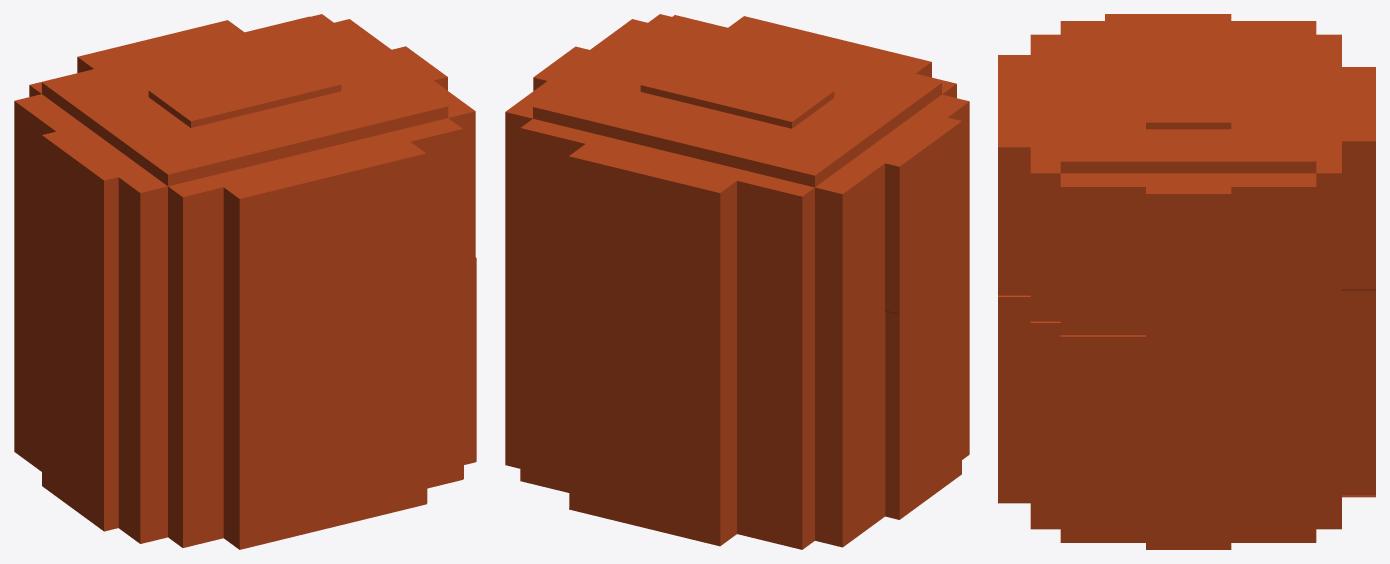
Rendered from Desert_Rock_Generator.fbx.
3 views of the same model, side by side, from view 1: azimuth 30°, elevation 25°; view 2: azimuth 150°, elevation 25°; view 3: azimuth 270°, elevation 25° (orthographic).
Parts seen in each view (by area): view 1: Desert_Rock; view 2: Desert_Rock; view 3: Desert_Rock.
Part boxes in pixels (x1=…): Desert_Rock: x1=14, y1=14, x2=476, y2=549; Desert_Rock: x1=505, y1=14, x2=969, y2=549; Desert_Rock: x1=998, y1=14, x2=1375, y2=549.
Bounding box in the file's own units: 2.17 × 2.11 × 1.92.
